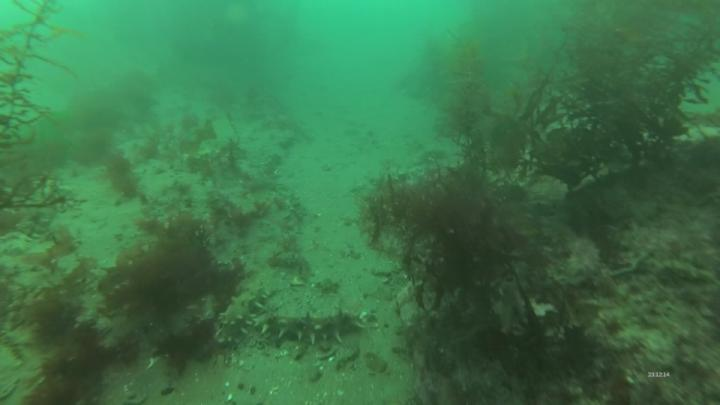holothurian: (256, 306, 373, 351), (214, 289, 257, 349)
waterweeds: (441, 2, 720, 178), (362, 153, 580, 352), (104, 214, 248, 327), (1, 1, 69, 225), (23, 277, 86, 349)
